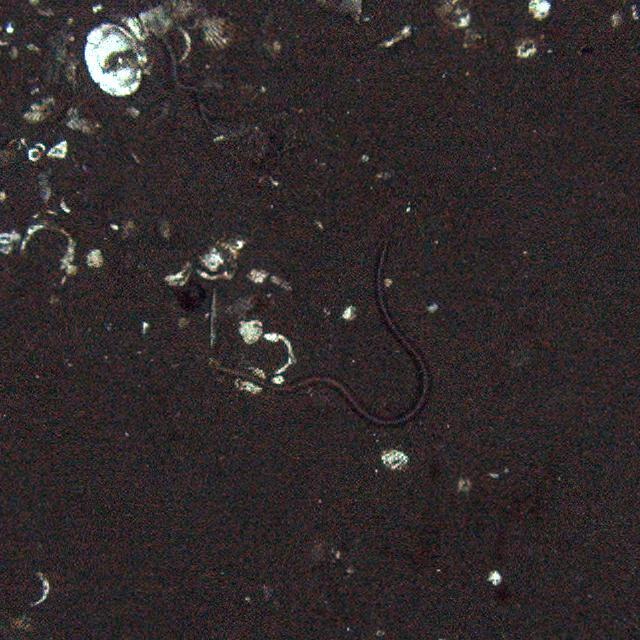eel: (216, 240, 436, 430)
